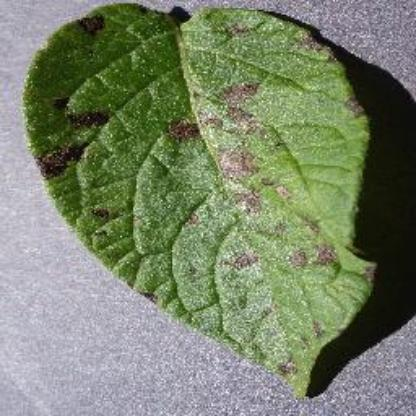Early-Blight: (21, 0, 410, 402)
